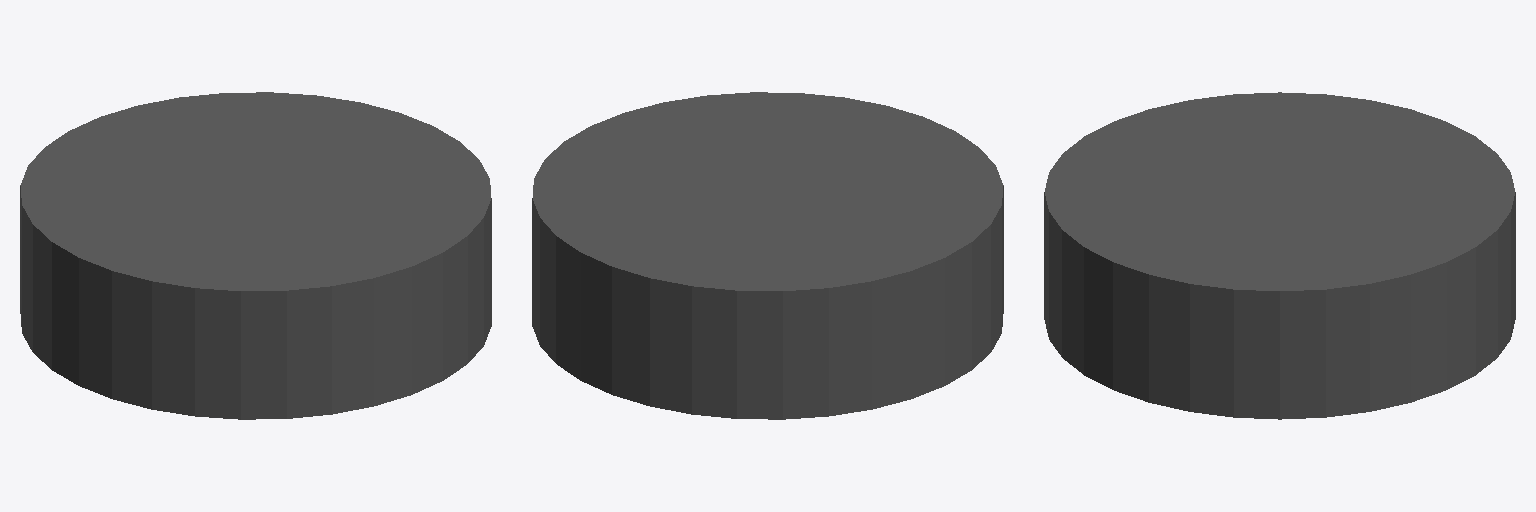
URDF robot description (coil):
<?xml version="1.0"?>
<robot name="coil">
  <link name="world"/>
  <joint name="fixed" type="fixed">
    <parent link="world"/>
    <child link="coil_link"/>
    <origin xyz="0 0 0" rpy="0 0 0"/>
  </joint>
  <link name="coil_link">
    <visual>
      <geometry>
        <cylinder radius="0.05" length="0.03"/>
      </geometry>
      <material name="grey">
        <color rgba="0.4 0.4 0.4 1.0"/>
      </material>
    </visual>
    <collision>
      <geometry>
        <cylinder radius="0.05" length="0.03"/>
      </geometry>
    </collision>
    <inertial>
      <mass value="0.8"/>
      <inertia ixx="0.001" ixy="0" ixz="0" iyy="0.001" iyz="0" izz="0.001"/>
    </inertial>
  </link>
</robot>

--- What the picture shows (computed from the rendered views, not written in the file) ---
3 views of the same robot in one strip: view 1: azimuth 30°, elevation 25°; view 2: azimuth 150°, elevation 25°; view 3: azimuth 270°, elevation 25° (orthographic).
Model coil with 2 links and 1 joints (1 fixed), rooted at world, posed all joints at 0.
Visible links, largest first — view 1: coil_link; view 2: coil_link; view 3: coil_link.
Boxes of the visible links, box(x1,y1,x2,y2) form: coil_link: box(20, 92, 491, 419); coil_link: box(532, 92, 1003, 419); coil_link: box(1044, 92, 1515, 419).
Size in the robot's own frame: 0.1 by 0.1 by 0.03 metres.
Geometry: primitives only (box / cylinder / sphere), no mesh files.
